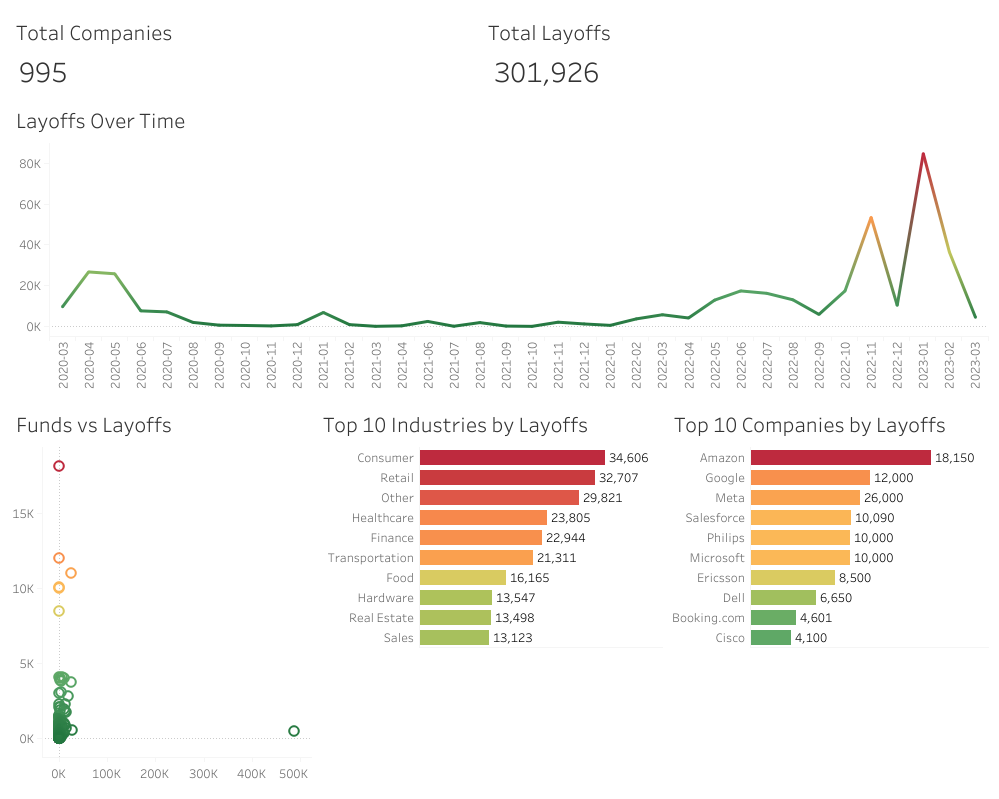

The page's visual inventory and layout, read from the dashboard file:
{"tool":"tableau","page":{"name":"layoffs dashboard","canvas":[1000,800],"ordinal":0},"visuals":[{"type":"worksheet","title":"title2","mark":"Automatic","box":[8,8,472,40]},{"type":"worksheet","title":"title1","mark":"Automatic","box":[480,8,512,40]},{"type":"worksheet","title":"Total Companies","mark":"Automatic","box":[8,48,472,48]},{"type":"worksheet","title":"Total Layoffs","mark":"Automatic","box":[480,48,512,48]},{"type":"worksheet","title":"layoffs over time","mark":"Line","rows":["total_layoffs"],"cols":["month"],"box":[8,96,984,304]},{"type":"worksheet","title":"funds vs layoffs","mark":"Automatic","rows":["total_layoffs"],"cols":["total_funds"],"box":[8,400,307,392]},{"type":"worksheet","title":"top 10 industries by layoffs","mark":"Automatic","rows":["industry"],"cols":["total_layoffs"],"box":[315,400,351,392]},{"type":"worksheet","title":"top 10 companies by layoffs","mark":"Automatic","rows":["company"],"cols":["total_layoffs"],"box":[666,400,326,392]}]}

Visuals, with their boxes in screenshot pixels (x1, y1, x2, y2), scaled from the page's 1000x800 canvas onto the 999x799 screenshot:
"title2" worksheet: left=8, top=8, right=480, bottom=48
"title1" worksheet: left=480, top=8, right=991, bottom=48
"Total Companies" worksheet: left=8, top=48, right=480, bottom=96
"Total Layoffs" worksheet: left=480, top=48, right=991, bottom=96
"layoffs over time" worksheet (Line marks): left=8, top=96, right=991, bottom=400
"funds vs layoffs" worksheet: left=8, top=400, right=315, bottom=791
"top 10 industries by layoffs" worksheet: left=315, top=400, right=665, bottom=791
"top 10 companies by layoffs" worksheet: left=665, top=400, right=991, bottom=791
